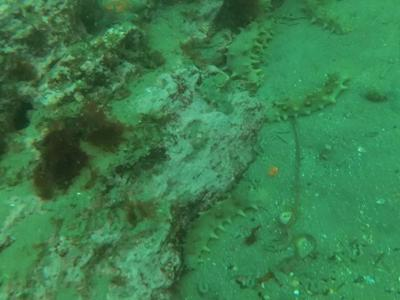holothurian: (181, 186, 265, 270), (265, 70, 351, 122), (223, 17, 274, 90), (197, 73, 236, 115), (308, 8, 356, 34)
urchin: (225, 3, 262, 29)
